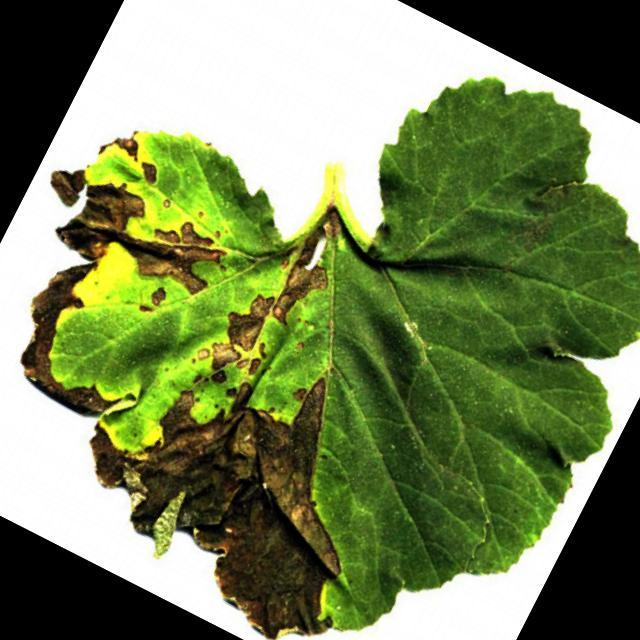Tomato bacterial spot leaf: (0, 91, 496, 640)
